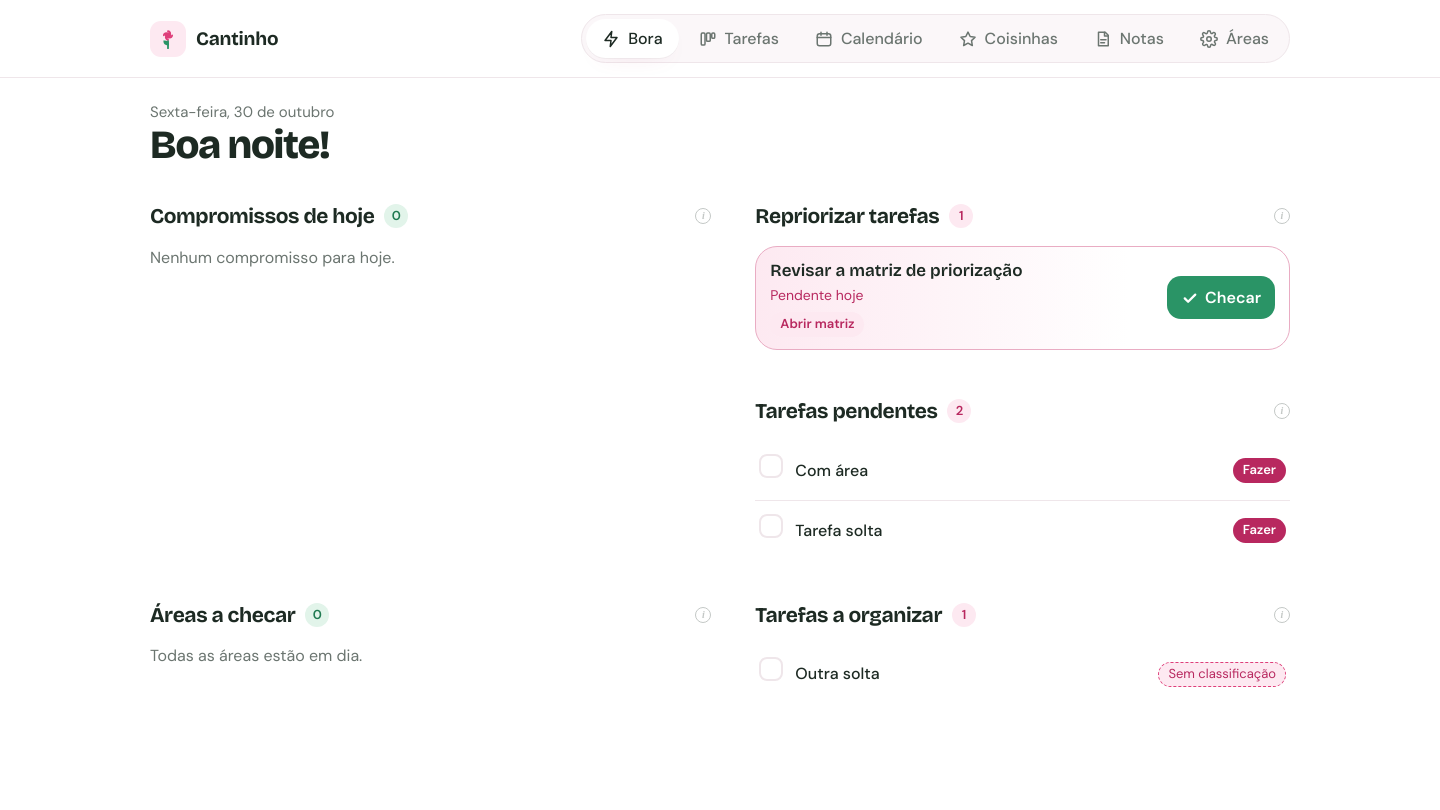
Tarefas sem área › ficam numa coluna "Sem área" e podem ser arrastadas para uma área
Step 1. Click the tab "Tarefas" → (739, 39), box [683,19,795,58]
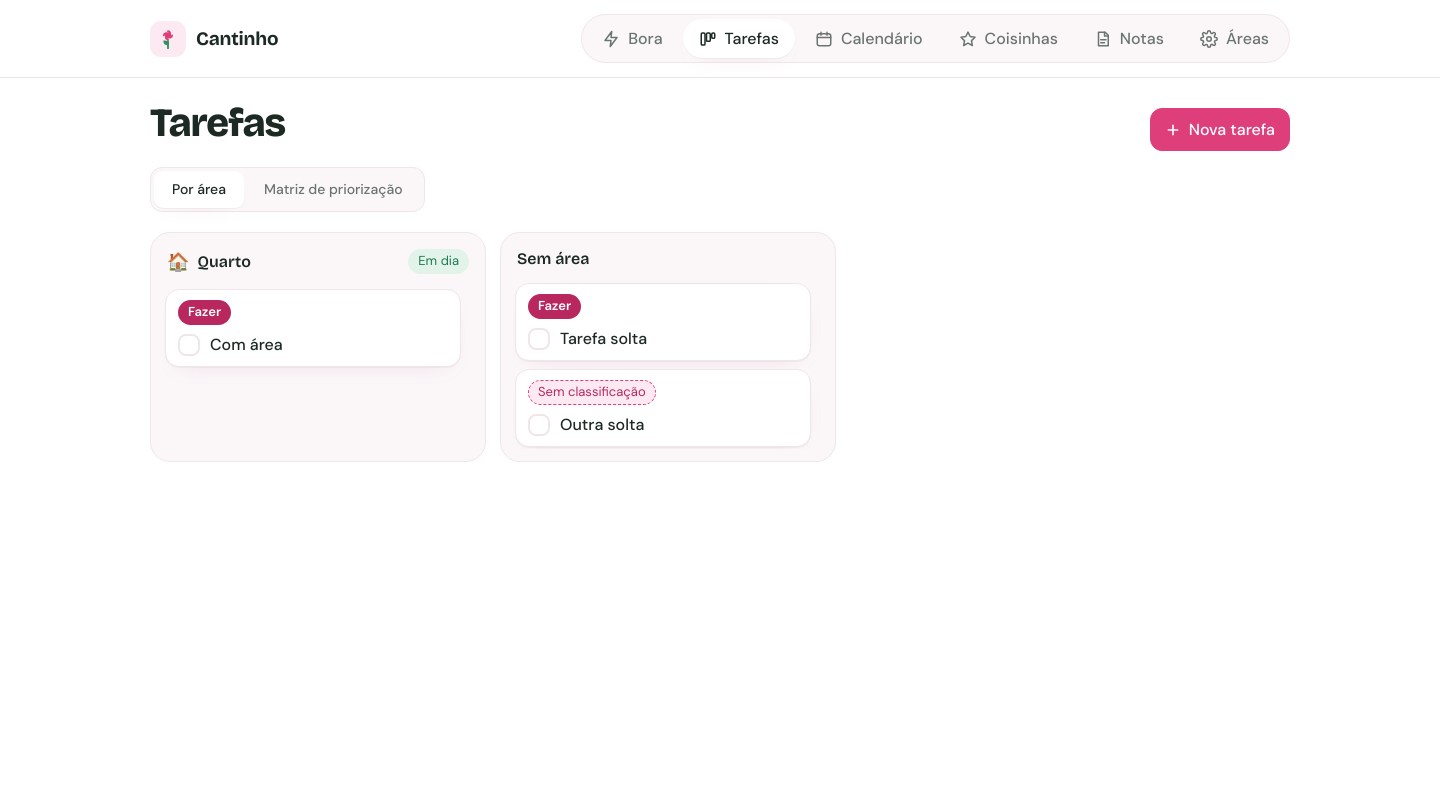
Expected: the button "Tarefa solta" is shown, [560,326,798,350]
Result: the text "Sem área" is shown at [517,249,589,268]
